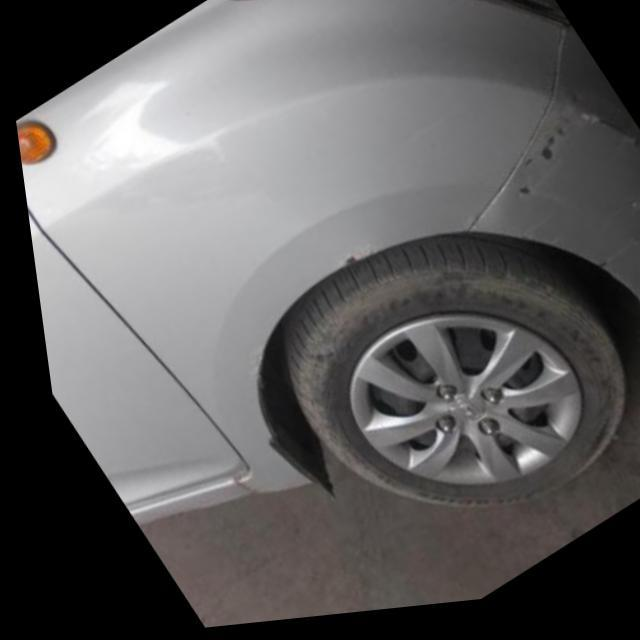scratch: (533, 117, 639, 174), (331, 249, 376, 274), (217, 475, 247, 501), (499, 192, 531, 209), (513, 162, 532, 183)
